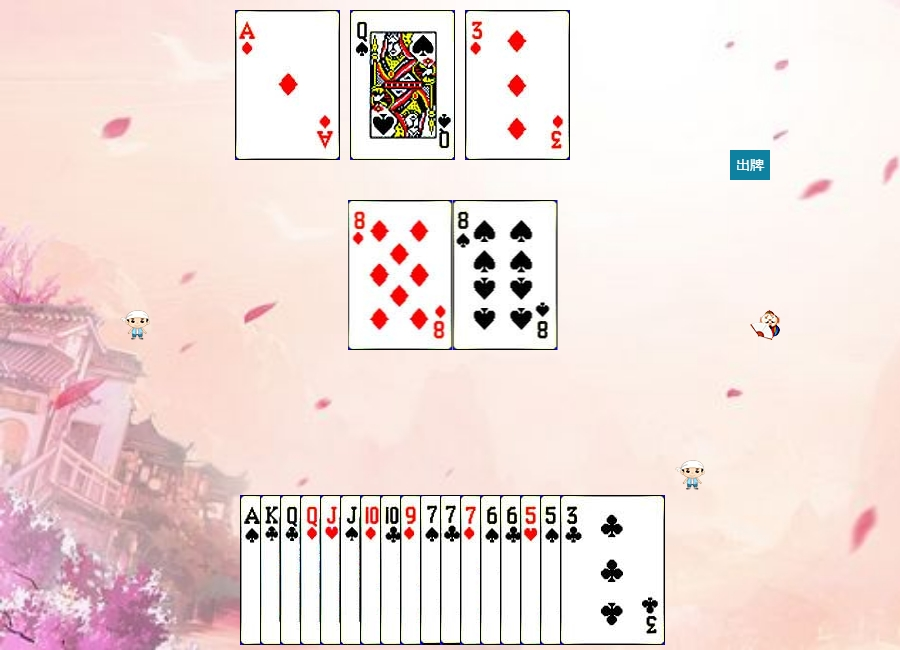10~1: (360, 495, 465, 645)
10~2: (380, 495, 485, 645)
11~3: (320, 495, 425, 645)
11~4: (340, 495, 445, 645)
12~1: (300, 495, 405, 645)
12~2: (280, 495, 385, 645)
12~4: (350, 10, 455, 160)
13~2: (260, 495, 365, 645)
14~1: (235, 10, 340, 160)
14~4: (240, 495, 345, 645)
3~1: (465, 10, 570, 160)
3~2: (560, 495, 665, 645)
5~3: (520, 495, 625, 645)
5~4: (540, 495, 645, 645)
6~2: (500, 495, 605, 645)
6~4: (480, 495, 585, 645)
7~1: (460, 495, 565, 645)
7~2: (440, 495, 545, 645)
7~4: (420, 495, 525, 645)
8~1: (348, 200, 453, 350)
8~4: (453, 200, 558, 350)
9~1: (400, 495, 505, 645)
